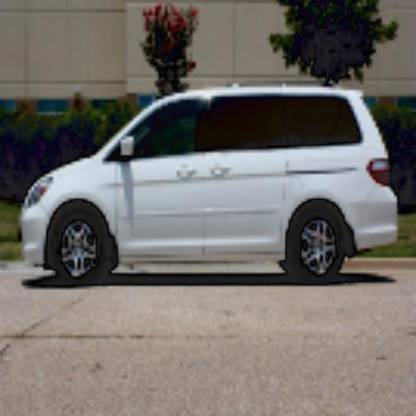Vehicle: (17, 92, 402, 290)
